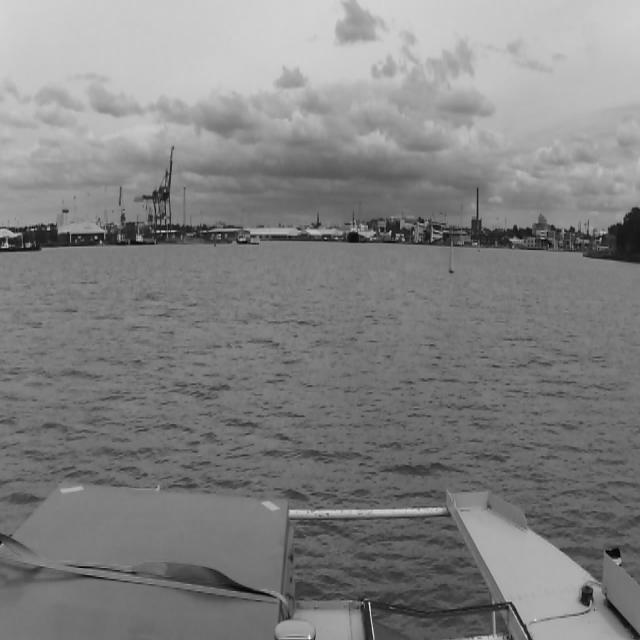buoy: (448, 241, 454, 273)
ship: (349, 212, 358, 244)
